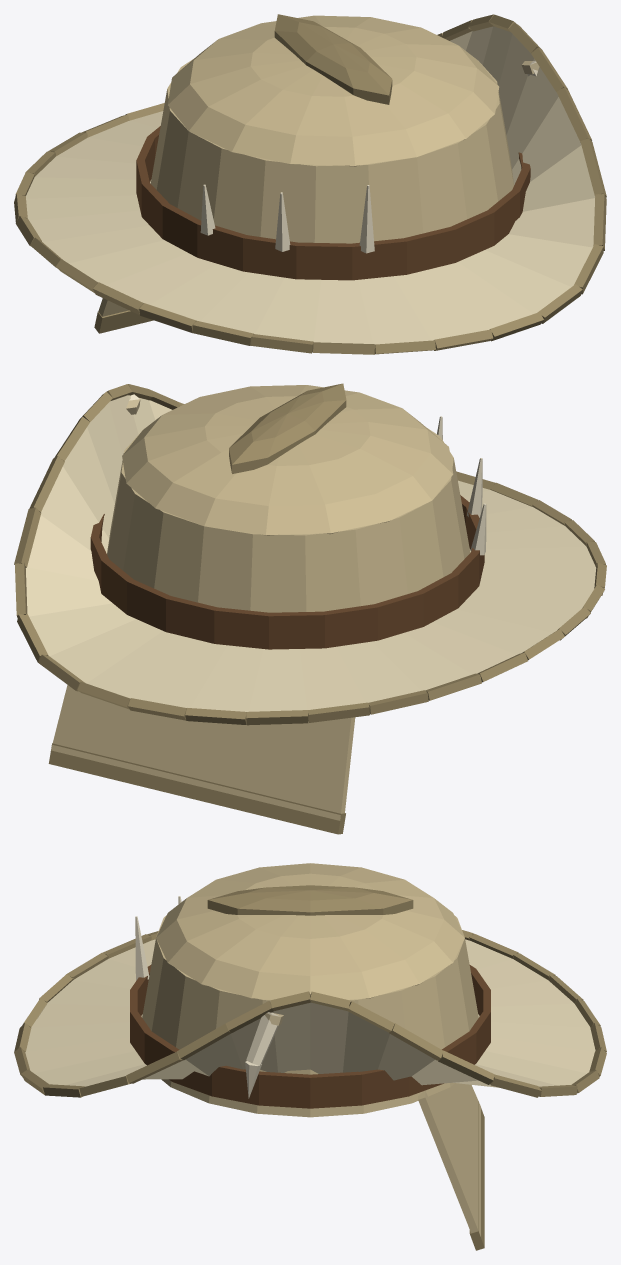
The model's file is ivory_poacher_hat.glb.
3 renders of one model, top to bottom at view 1: azimuth 30°, elevation 25°; view 2: azimuth 150°, elevation 25°; view 3: azimuth 270°, elevation 25°, orthographic. The views are drawn at different scales.
Visible parts, largest first — view 1: ivory_poacher_hat; view 2: ivory_poacher_hat; view 3: ivory_poacher_hat.
Boxes of the visible parts, box(x1,y1,x2,y2) form: ivory_poacher_hat: box(14, 14, 606, 354); ivory_poacher_hat: box(14, 383, 606, 834); ivory_poacher_hat: box(14, 863, 606, 1250).
Size of the model in its own units: 1.66 by 1.05 by 1.92.
